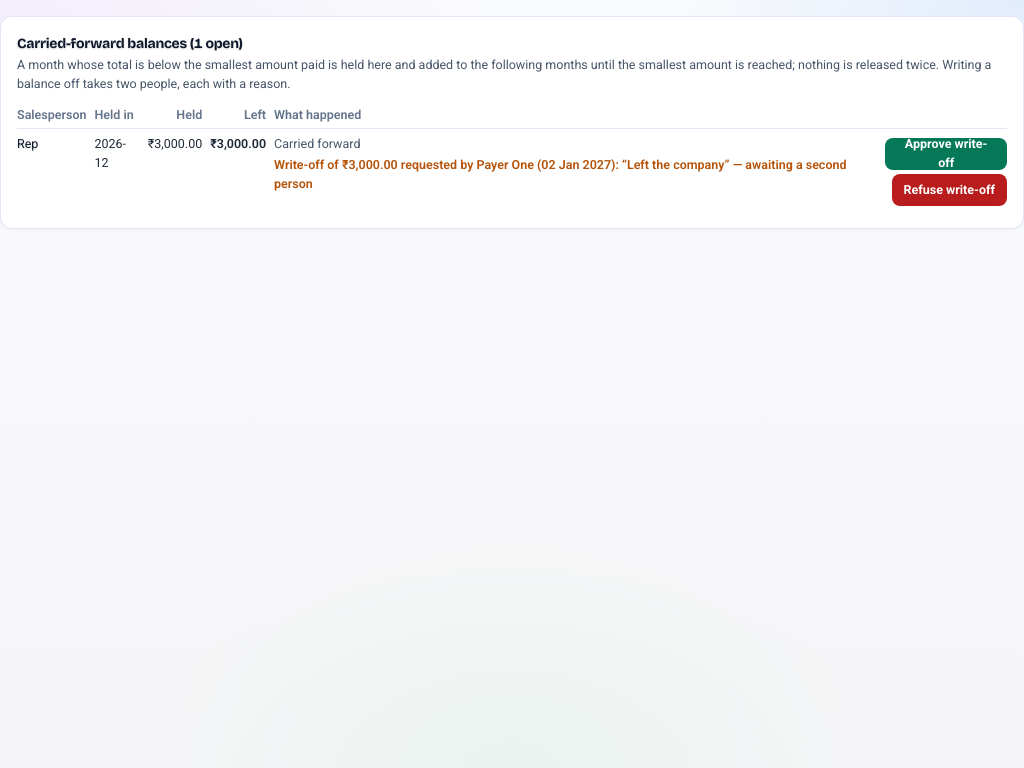
Test case: Categories C–G on screen › a write-off takes two people: the requester only sees it awaiting a second person; someone else approves or refuses it, each with a reason
Later steps or results of the test are not shown.
Click the button "Approve write-off".
click(946, 154)  # box [885, 138, 1007, 170]
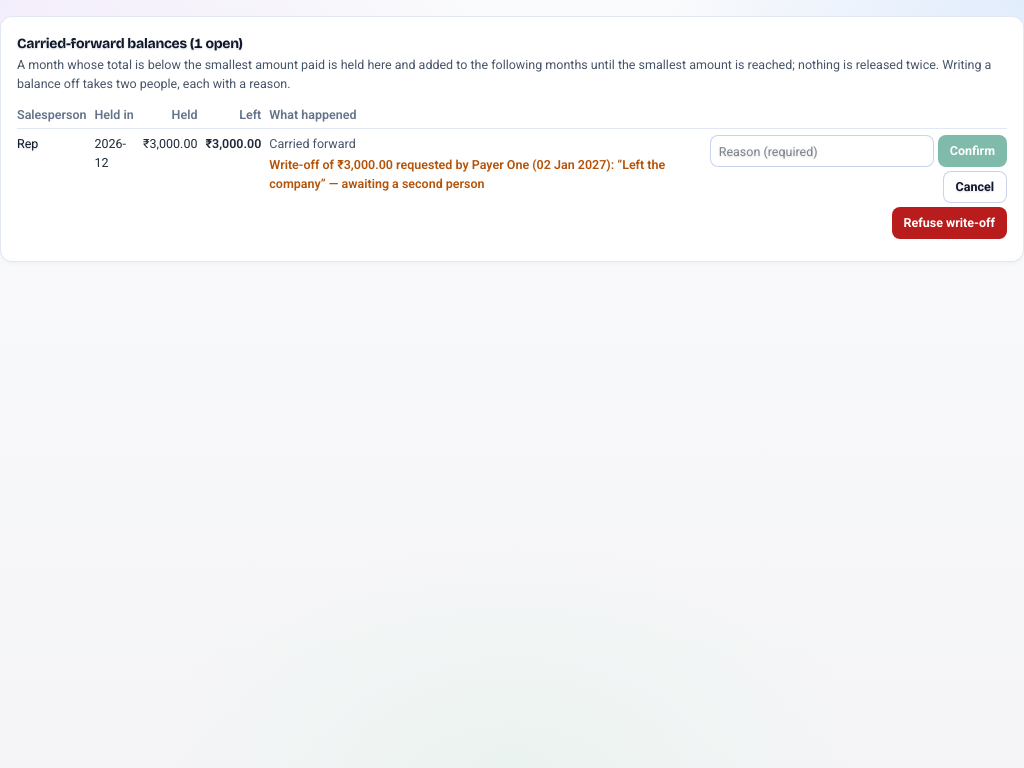
Now the button "Confirm" is disabled, box [938, 135, 1007, 167]
